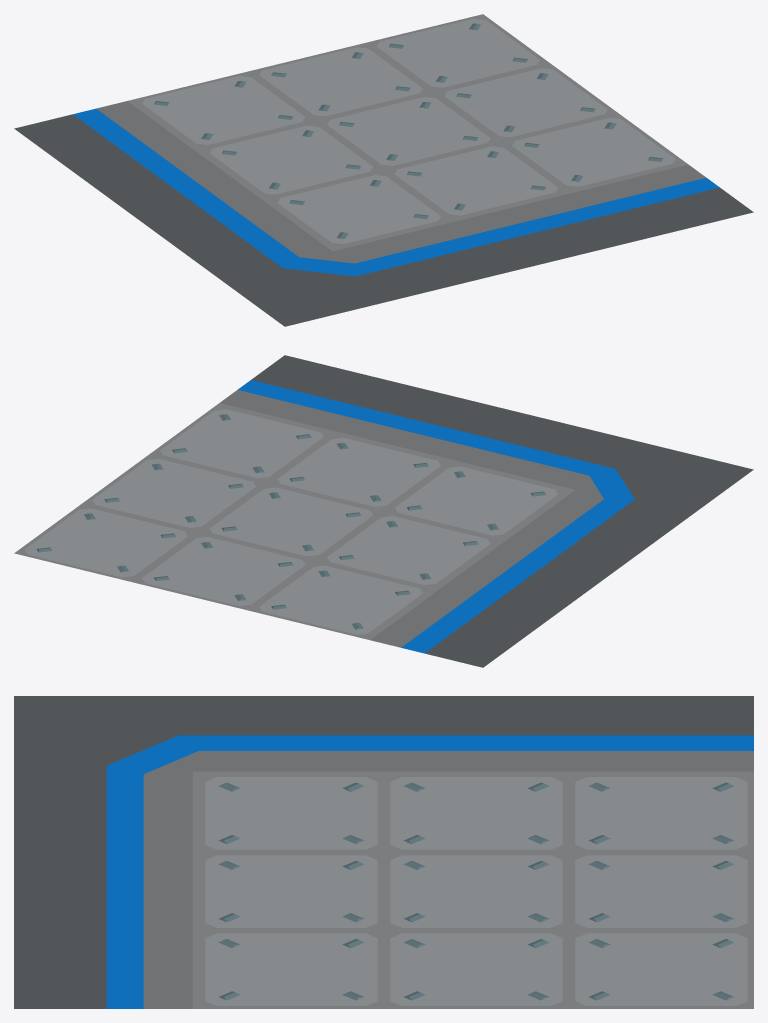
Rendered from corridor_floor_1x1_damaged.glb.
The picture shows the model from 3 angles, top to bottom: view 1: azimuth 30°, elevation 25°; view 2: azimuth 150°, elevation 25°; view 3: azimuth 270°, elevation 25°; orthographic projection. The views are drawn at different scales.
Parts seen in each view (by area): view 1: Floor_type_B_003; view 2: Floor_type_B_003; view 3: Floor_type_B_003.
Boxes of the visible parts, left/top/right/bottom form: Floor_type_B_003: left=14, top=14, right=753, bottom=326; Floor_type_B_003: left=14, top=355, right=753, bottom=667; Floor_type_B_003: left=14, top=696, right=753, bottom=1008.
Size of the model in its own units: 4 by 0.008 by 4.
Materials: 2 (2 with a texture image).
